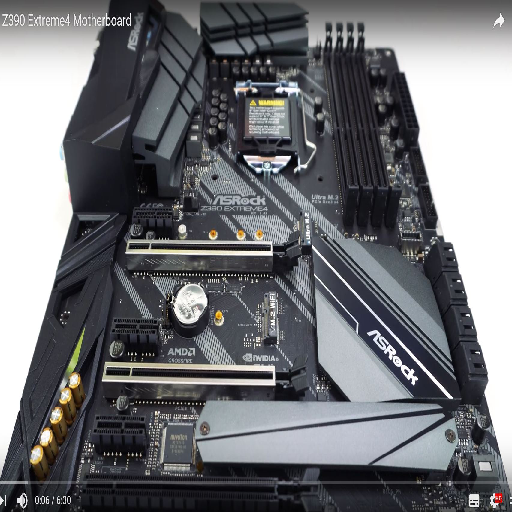CPU: (230, 79, 303, 176)
GPU: (77, 467, 323, 512), (102, 352, 309, 402), (124, 231, 301, 273)
MOTHERBOARD: (15, 46, 511, 510)
RAM: (324, 21, 402, 229)
SSD: (261, 289, 281, 345), (296, 211, 314, 247)
